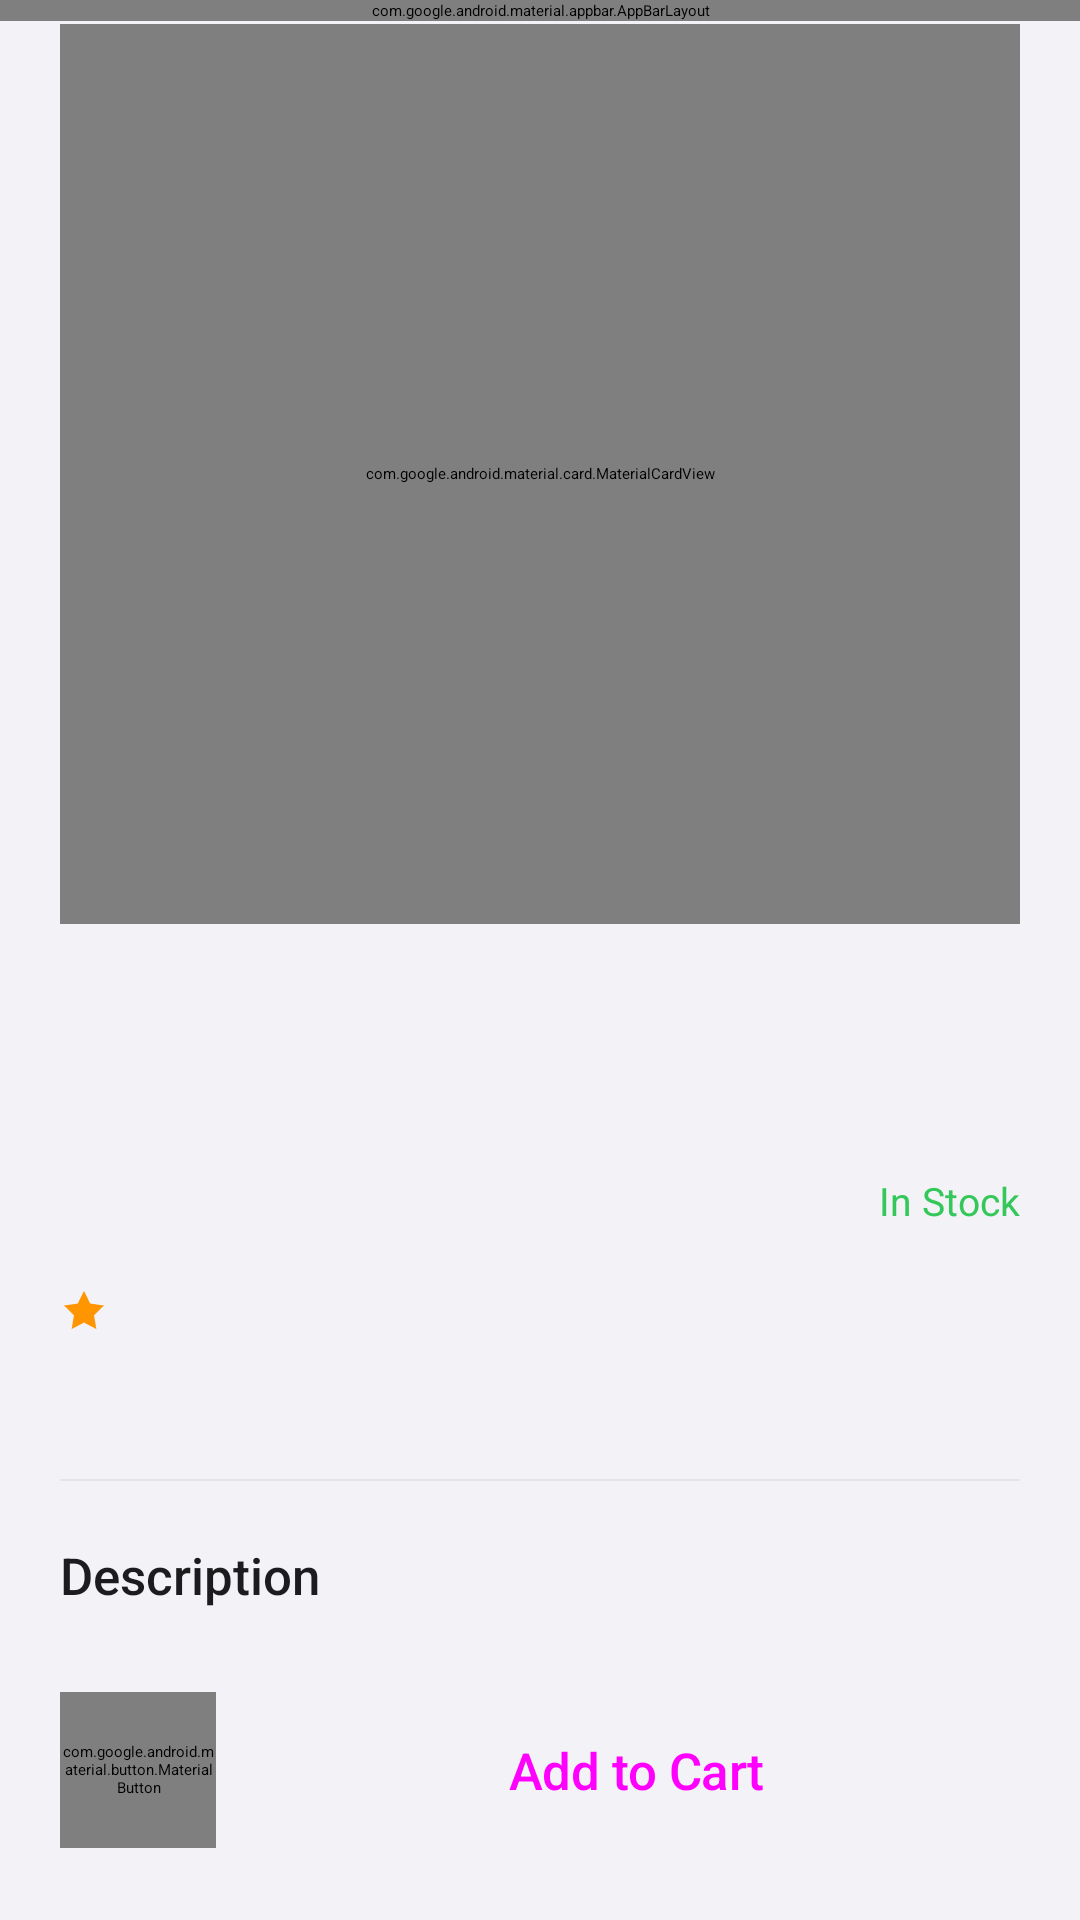

Where to tap for icons on this 1080px x 1920px app screen, as (x,y):
Star: (84,1310)
